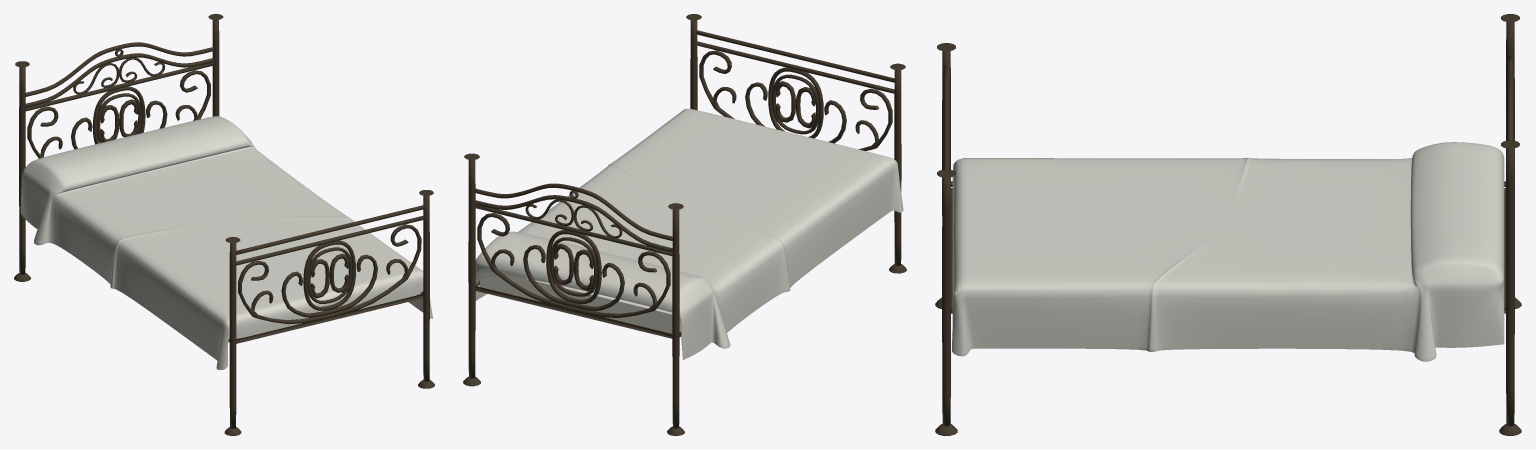
Rendered from sh_scopia_iron_bed.glb.
The picture shows the model from 3 angles, left to right: view 1: azimuth 30°, elevation 25°; view 2: azimuth 150°, elevation 25°; view 3: azimuth 270°, elevation 25°; orthographic projection. The views are drawn at different scales.
Bounding box in the file's own units: 1.32 × 1.16 × 2.15.
